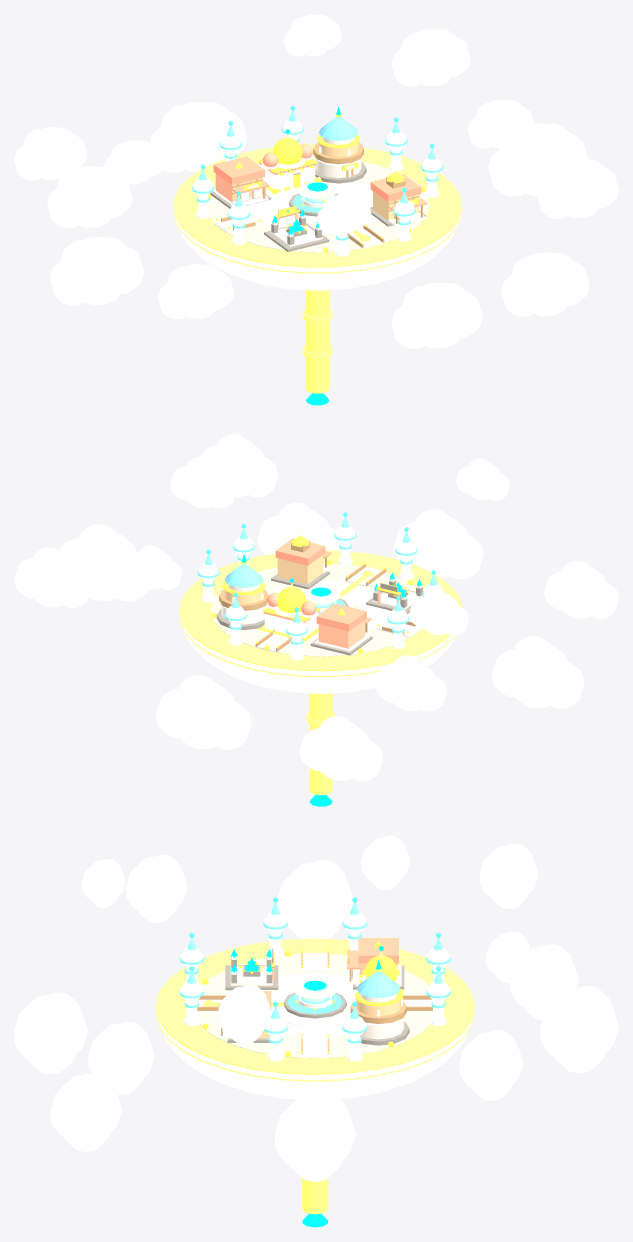
Rendered from osrs_guild.glb.
The picture shows the model from 3 angles, top to bottom: view 1: azimuth 30°, elevation 25°; view 2: azimuth 150°, elevation 25°; view 3: azimuth 270°, elevation 25°; orthographic projection. The views are drawn at different scales.
Parts seen in each view (by area): view 1: OSRS_GrandExchangeTown; view 2: OSRS_GrandExchangeTown; view 3: OSRS_GrandExchangeTown.
Part boxes in pixels (left/top/right/bottom): OSRS_GrandExchangeTown: left=14, top=14, right=618, bottom=405; OSRS_GrandExchangeTown: left=14, top=434, right=618, bottom=806; OSRS_GrandExchangeTown: left=14, top=835, right=618, bottom=1227.
Size of the model in its own units: 77.44 by 41.65 by 68.68.
